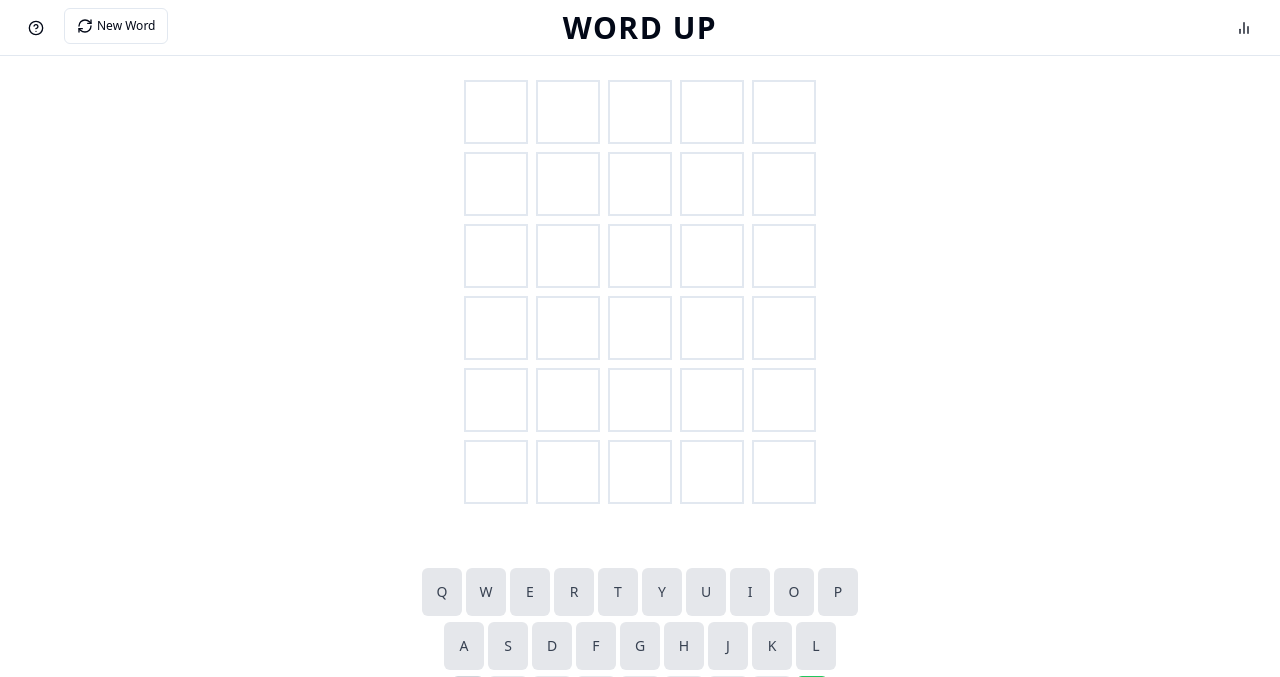
Test case: Wordle Game › opens and closes instructions dialog
Click the button with test id "instructions-btn". click: (36, 28)
box: [16,8,56,48]
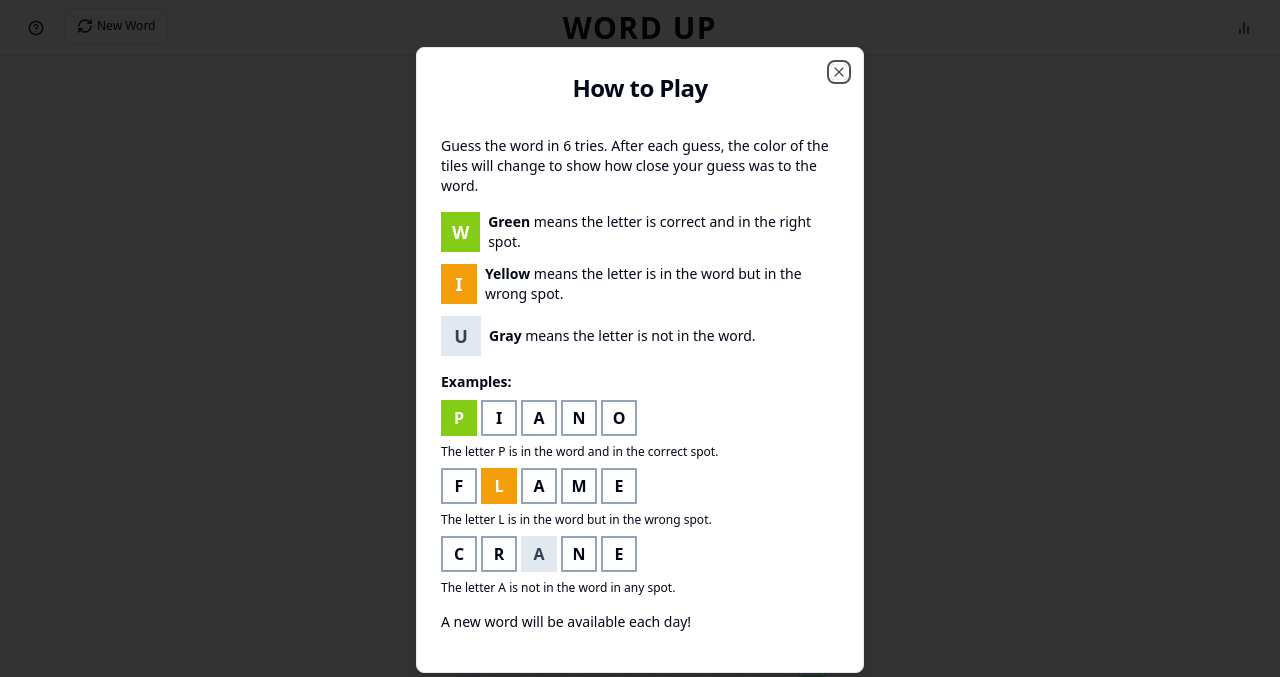
Expected: the dialog with test id "instructions-dialog" is shown, [416,47,864,673]
Click the button with test id "close-instructions". click: (839, 72)
box: [831,64,847,80]
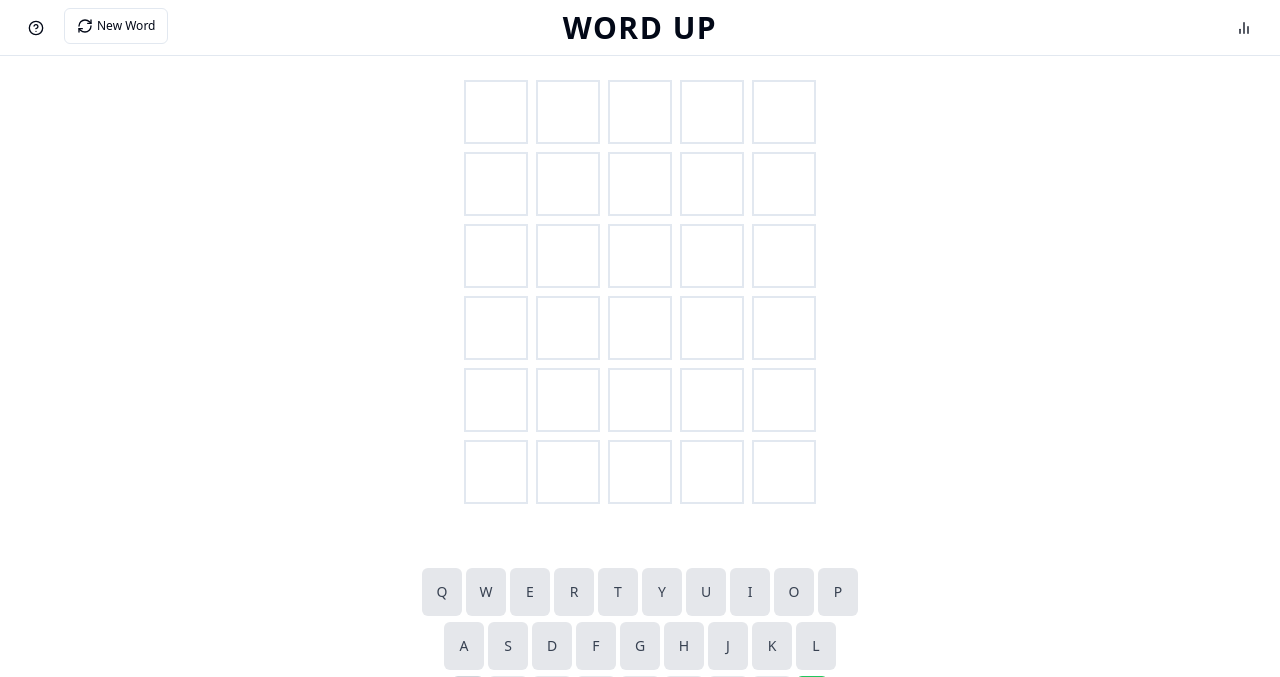
Expected: the dialog with test id "instructions-dialog" is gone
